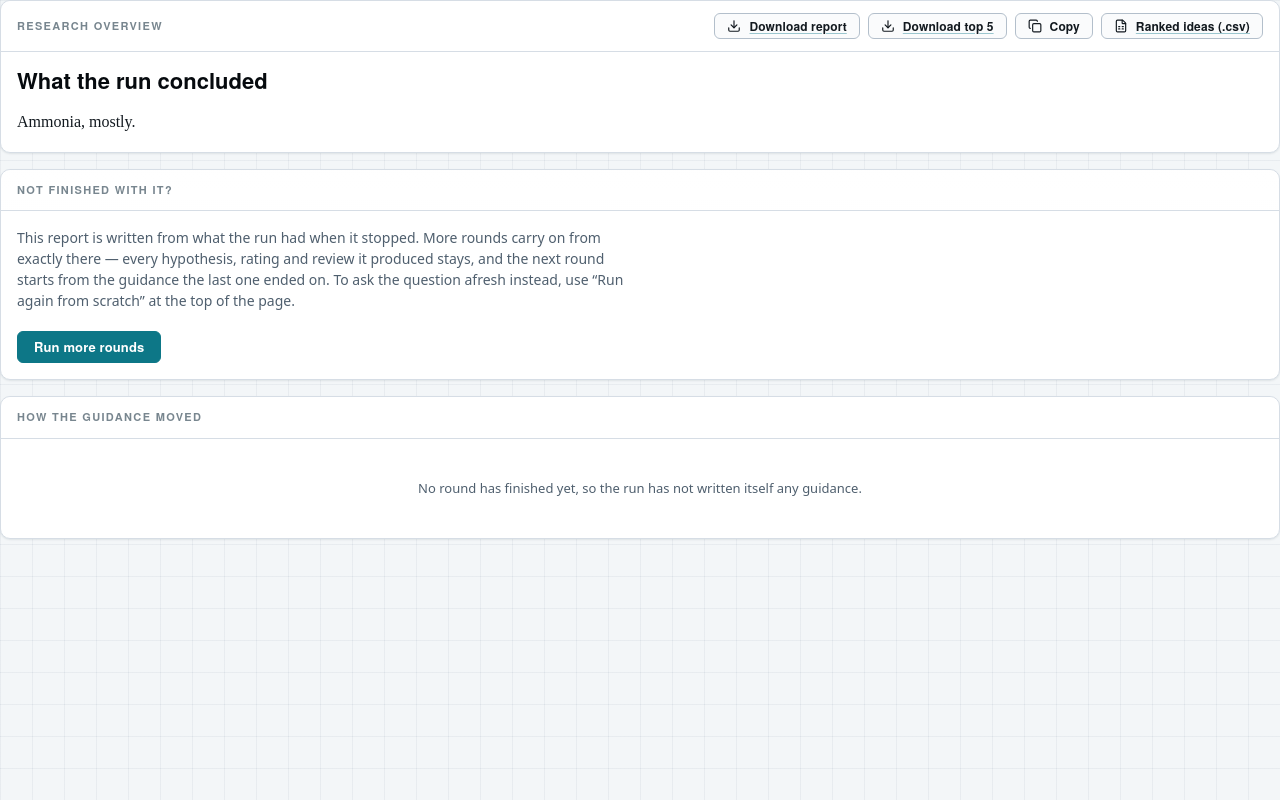
Test: running more rounds from the report › never says the decision in money
Expected: the button "run more rounds" does not show "$"
Click the button "Run more rounds".
click(89, 347)  # box left=17, top=331, right=161, bottom=363
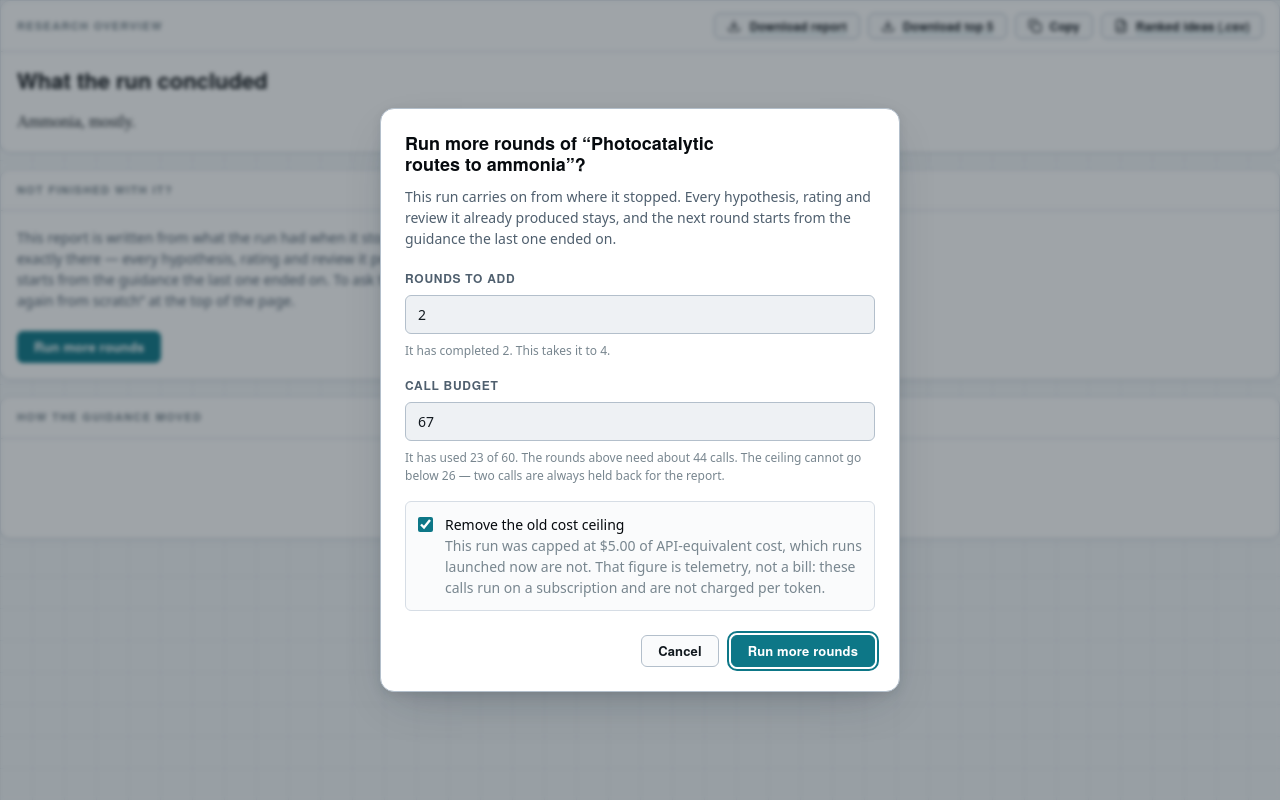
Expected: the dialog shows "call budget", left=405, top=376, right=499, bottom=394
